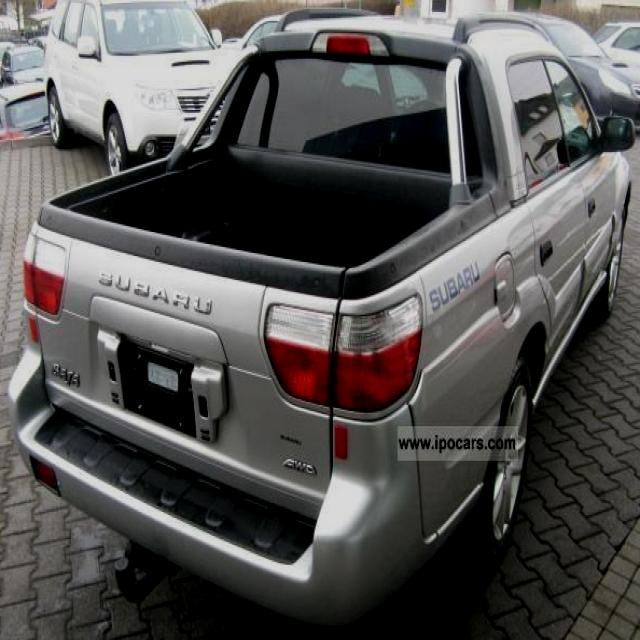CMT: (29, 50, 604, 572)
SUV: (47, 2, 215, 143)
